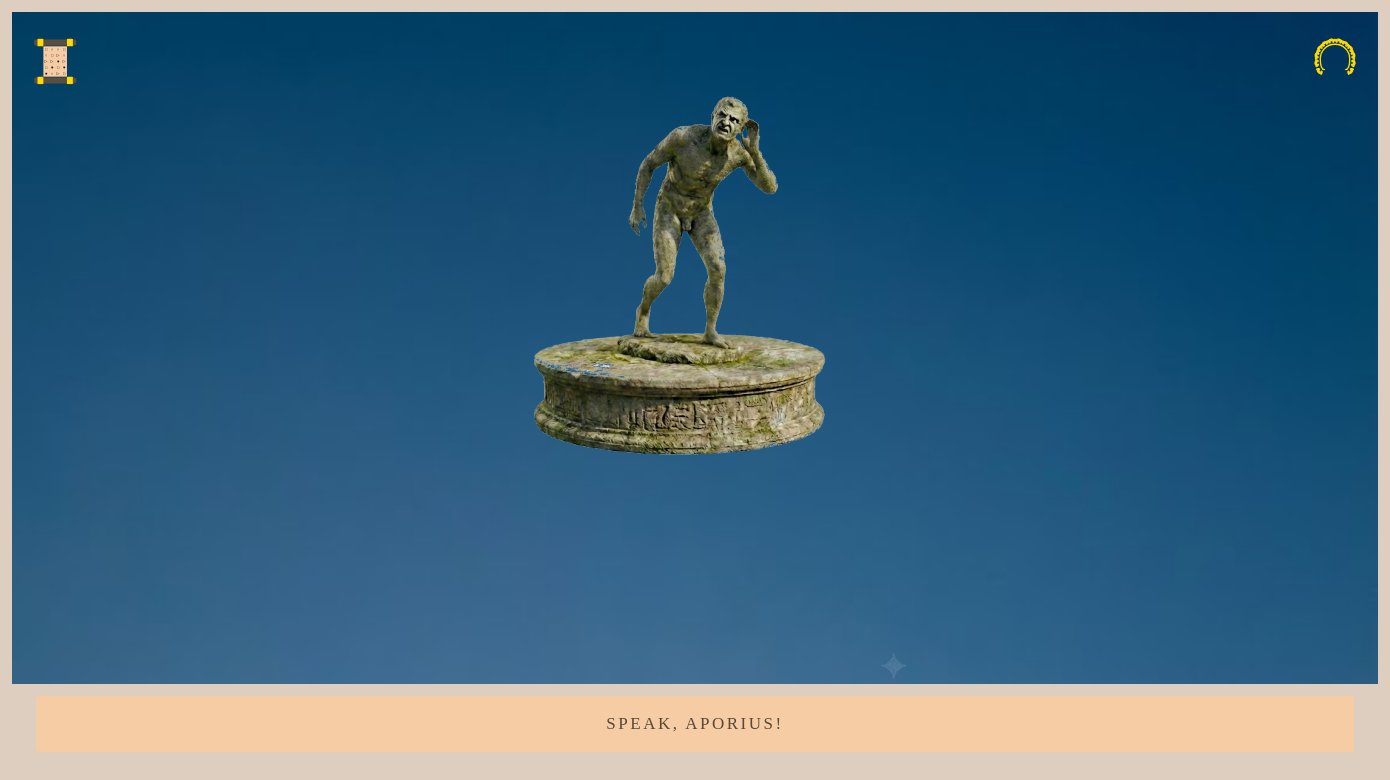
LISTEN, APORIUS! › cuts the reply off and goes back to listening
The image size is (1390, 780).
Click the button "SPEAK, APORIUS!". click: (695, 724)
box: [36,696,1354,752]
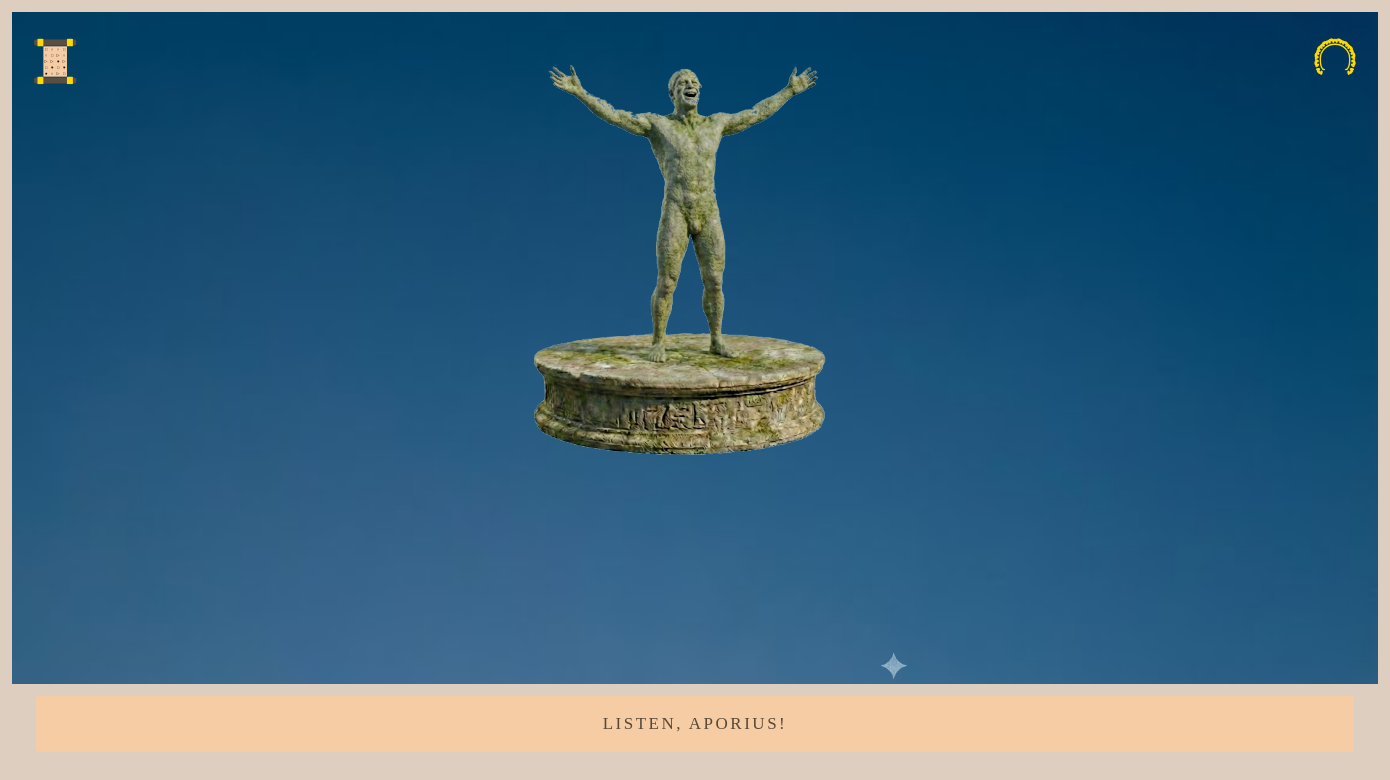
Click the button "LISTEN, APORIUS!". click: (695, 724)
box: [36,696,1354,752]
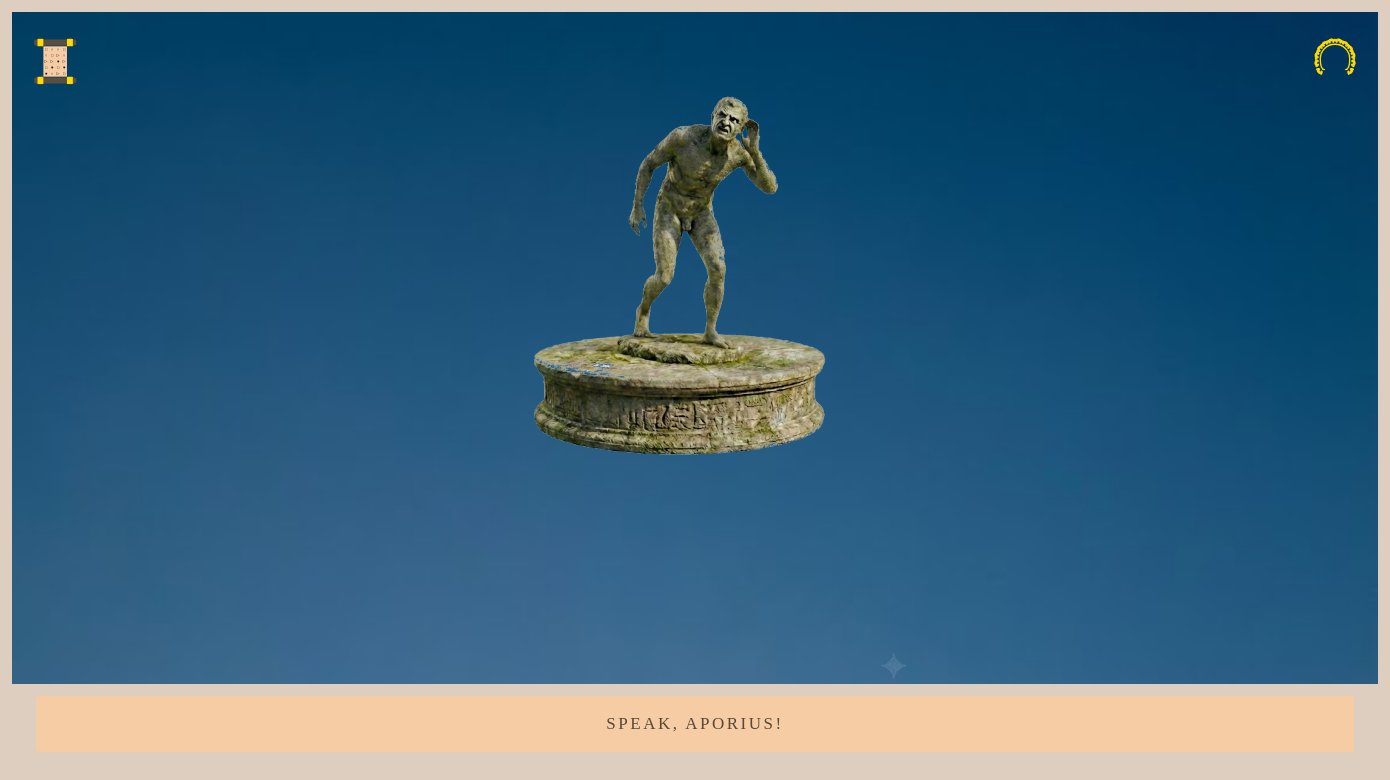
Result: the button "SPEAK, APORIUS!" is shown at [36,696,1354,752]
